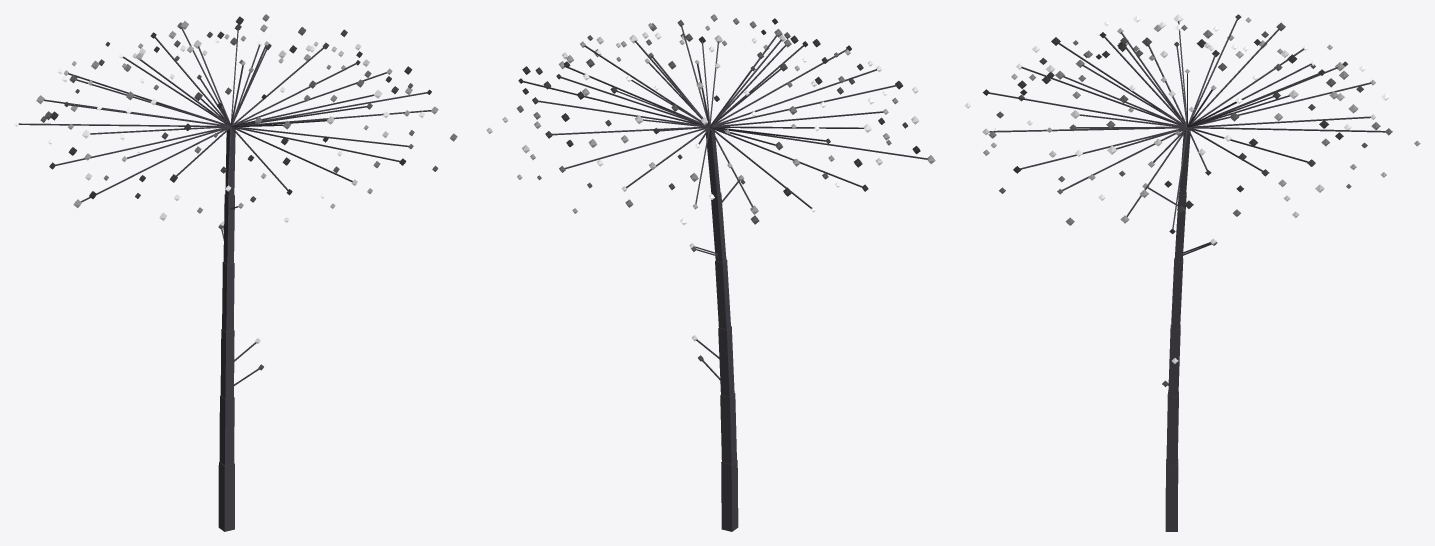
The model's file is umbel_tree_c.glb.
3 views of the same model, side by side, from view 1: azimuth 30°, elevation 25°; view 2: azimuth 150°, elevation 25°; view 3: azimuth 270°, elevation 25° (orthographic). The views are drawn at different scales.
Parts seen in each view (by area): view 1: umbel_tree_c; view 2: umbel_tree_c; view 3: umbel_tree_c.
Part boxes in pixels (left/top/right/bottom): umbel_tree_c: left=14, top=14, right=457, bottom=531; umbel_tree_c: left=486, top=14, right=935, bottom=531; umbel_tree_c: left=964, top=14, right=1420, bottom=531.
Size of the model in its own units: 11.19 by 13.07 by 11.15.
2 materials, 1 textured.
